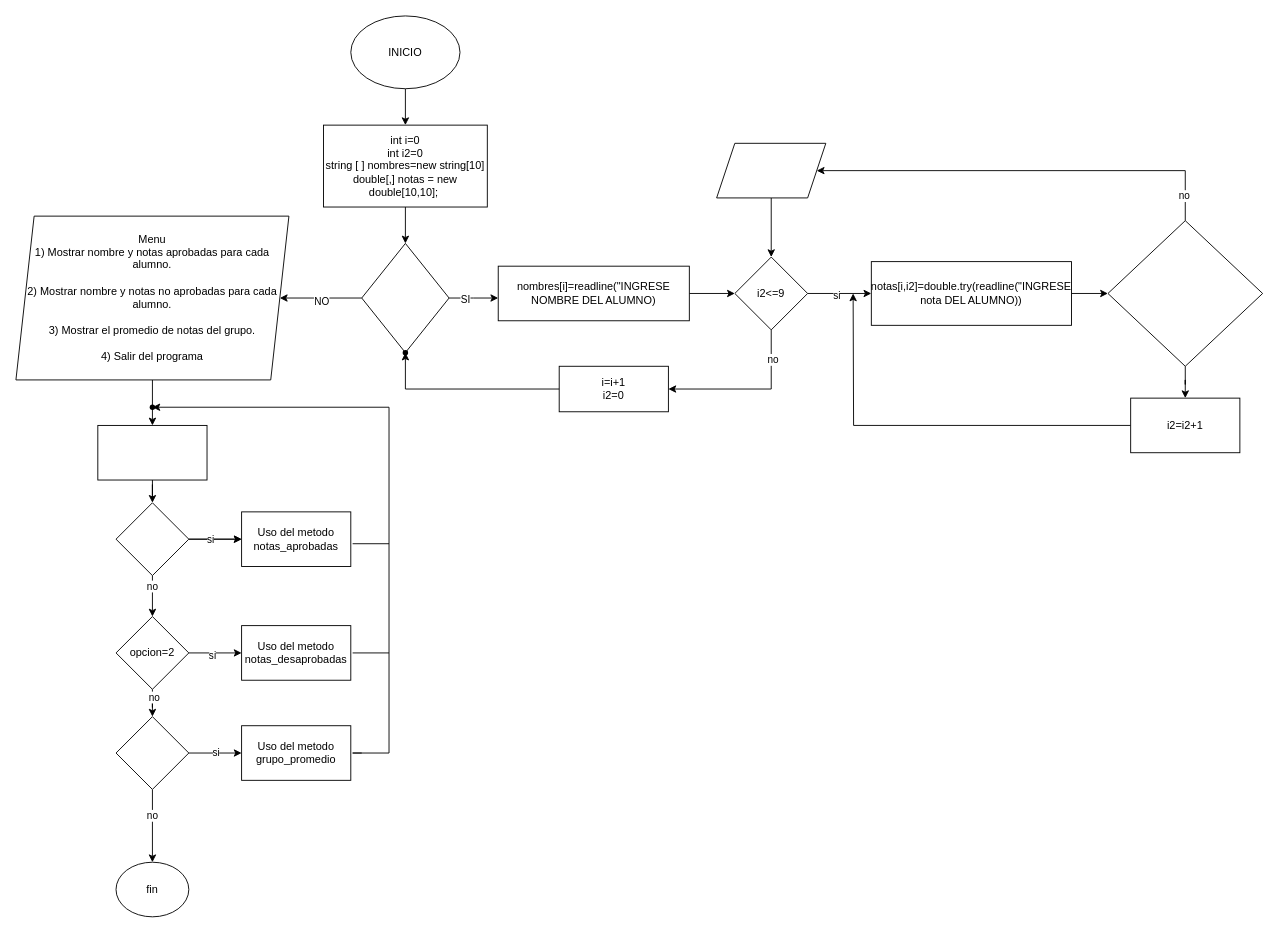
Some shapes in this 1279 by 933 pixel diagram are drawn without their labels. Here are the shapes that lost their labels. From the top down, the box of each, then its label:
(716, 142, 826, 198): Ingrese datos correctos
(361, 243, 449, 353): i<=9
(1107, 220, 1263, 366): (0<=notas[i,i2]<=100) && notas[i,i2] sea una double
(97, 425, 207, 480): char opcion = actividad que el usuario desee
(115, 502, 189, 576): opcion=1
(115, 716, 189, 789): opcion=3
